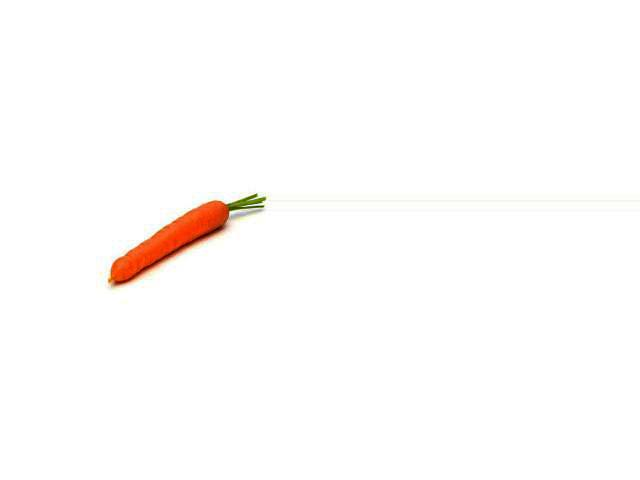carrot: (104, 200, 232, 282)
